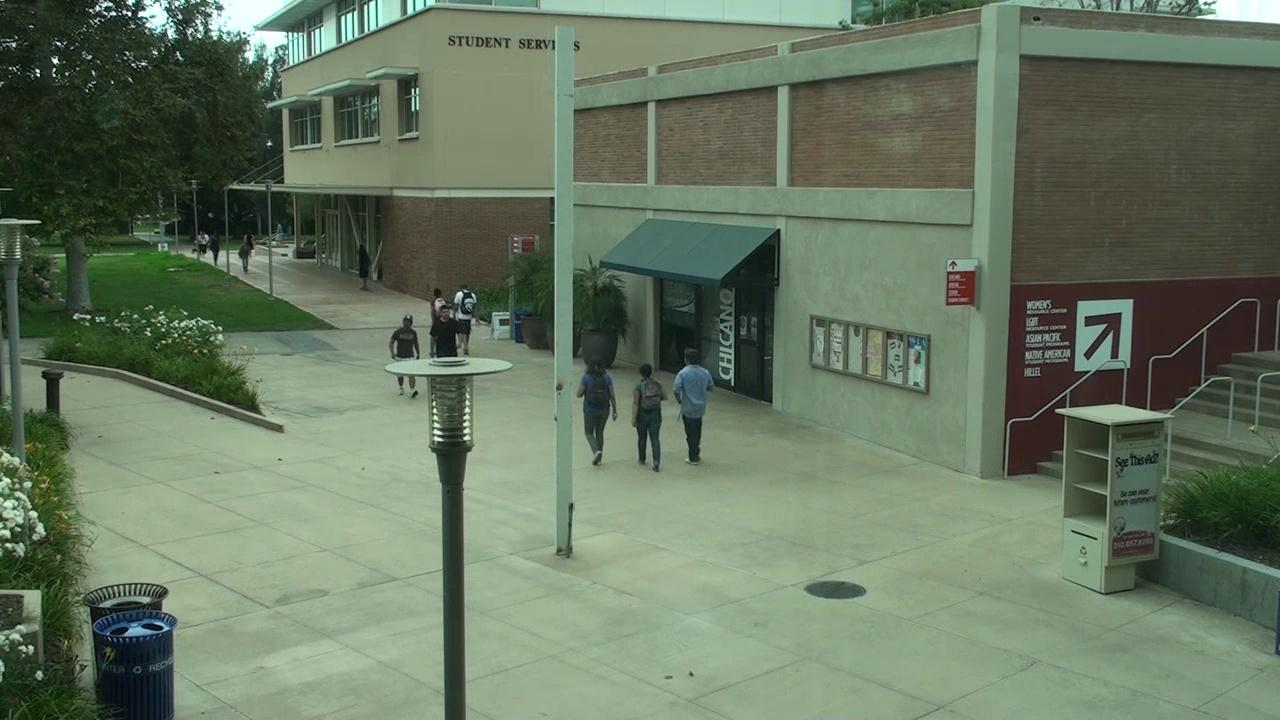person: (673, 348, 714, 464), (576, 358, 617, 465), (632, 364, 666, 471), (454, 283, 476, 354), (389, 315, 419, 361), (432, 317, 460, 356), (358, 243, 370, 290), (433, 288, 445, 328), (242, 233, 254, 272), (210, 235, 220, 264), (239, 241, 247, 272), (411, 378, 418, 397), (397, 377, 404, 394), (432, 339, 435, 355)
